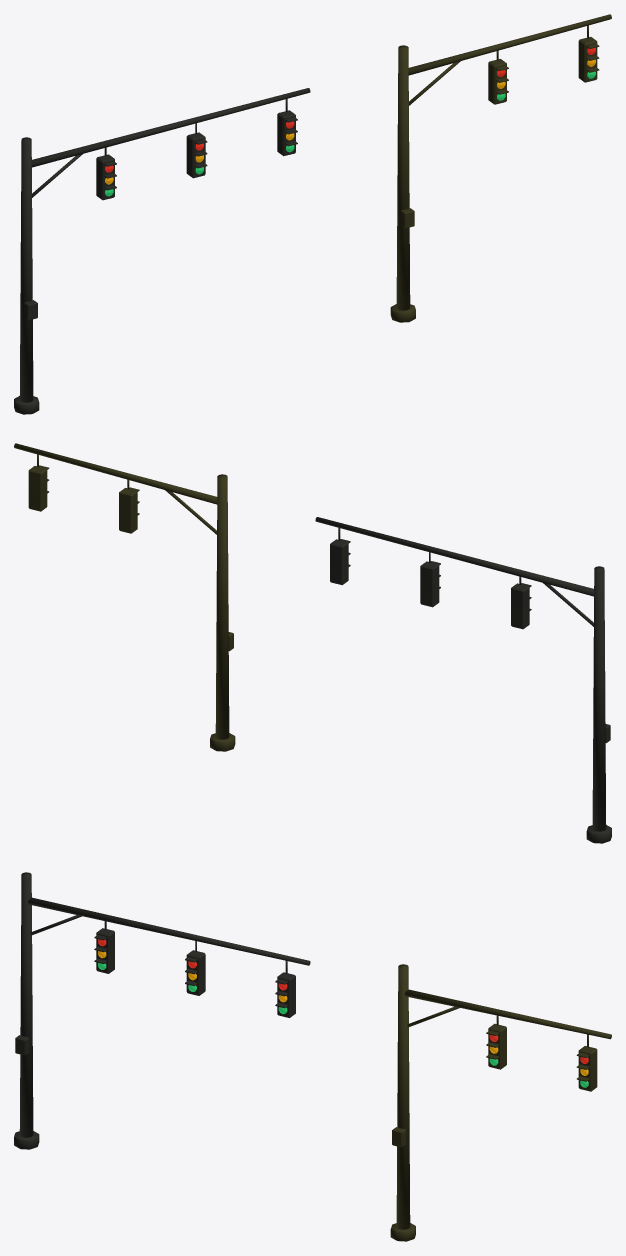
Rendered from traffic_light_mast.glb.
3 renders of one model, top to bottom at view 1: azimuth 30°, elevation 25°; view 2: azimuth 150°, elevation 25°; view 3: azimuth 330°, elevation 25°, orthographic.
Parts seen in each view (by area): view 1: traffic_light_mast_v1, traffic_light_mast_v2; view 2: traffic_light_mast_v1, traffic_light_mast_v2; view 3: traffic_light_mast_v1, traffic_light_mast_v2.
Boxes of the visible parts, bbox=[...] form: traffic_light_mast_v1: bbox=[14, 88, 310, 414]; traffic_light_mast_v2: bbox=[390, 14, 611, 322]; traffic_light_mast_v1: bbox=[315, 517, 611, 843]; traffic_light_mast_v2: bbox=[14, 443, 235, 751]; traffic_light_mast_v1: bbox=[14, 872, 310, 1149]; traffic_light_mast_v2: bbox=[390, 964, 611, 1241].
Bounding box in the file's own units: 15.8 × 6.85 × 0.6.
Materials: 2 (2 with a texture image).
